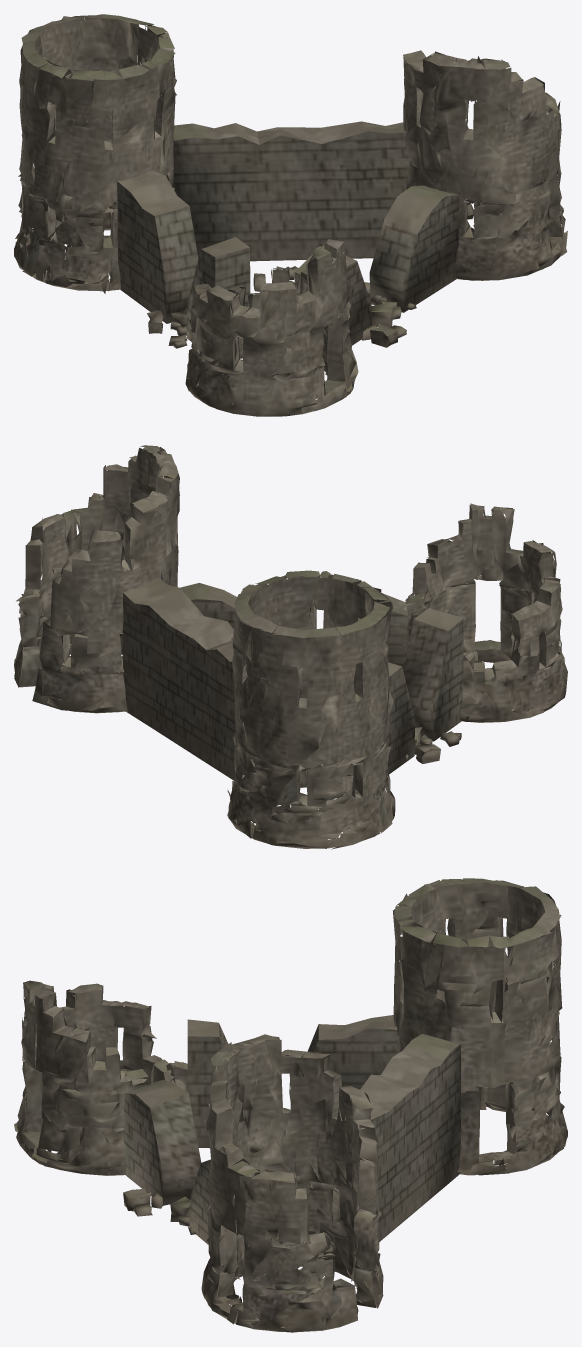
File: a11_tower_ruins.glb
3 renders of one model, top to bottom at view 1: azimuth 30°, elevation 25°; view 2: azimuth 150°, elevation 25°; view 3: azimuth 270°, elevation 25°, orthographic. The views are drawn at different scales.
Visible parts, largest first — view 1: body; view 2: body; view 3: body.
Boxes of the visible parts, bbox=[...] form: body: bbox=[14, 14, 567, 416]; body: bbox=[14, 445, 567, 849]; body: bbox=[14, 878, 567, 1332].
Size of the model in its own units: 1 by 0.4787 by 0.9996.
Materials: 1 (1 with a texture image).
